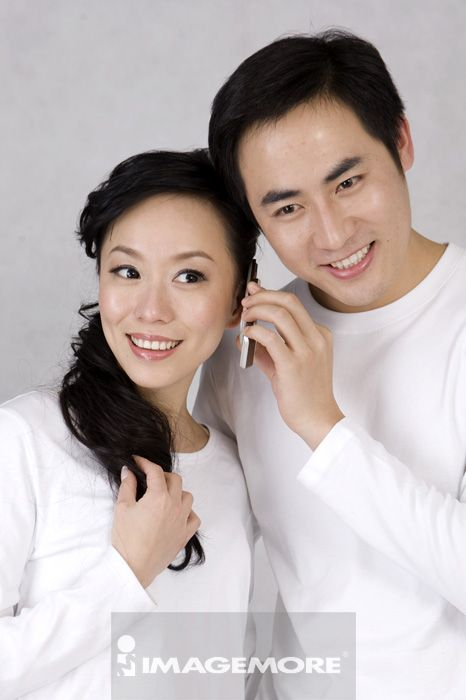phone: (237, 251, 258, 371)
talk: (98, 236, 337, 433)
